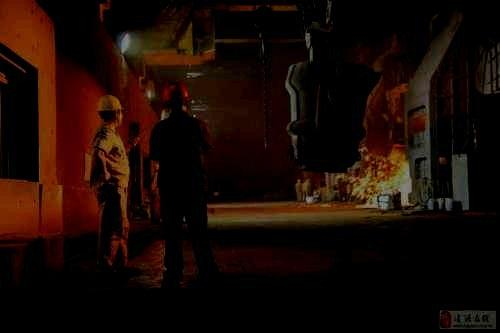helmet: (161, 81, 192, 116), (96, 94, 125, 128)
